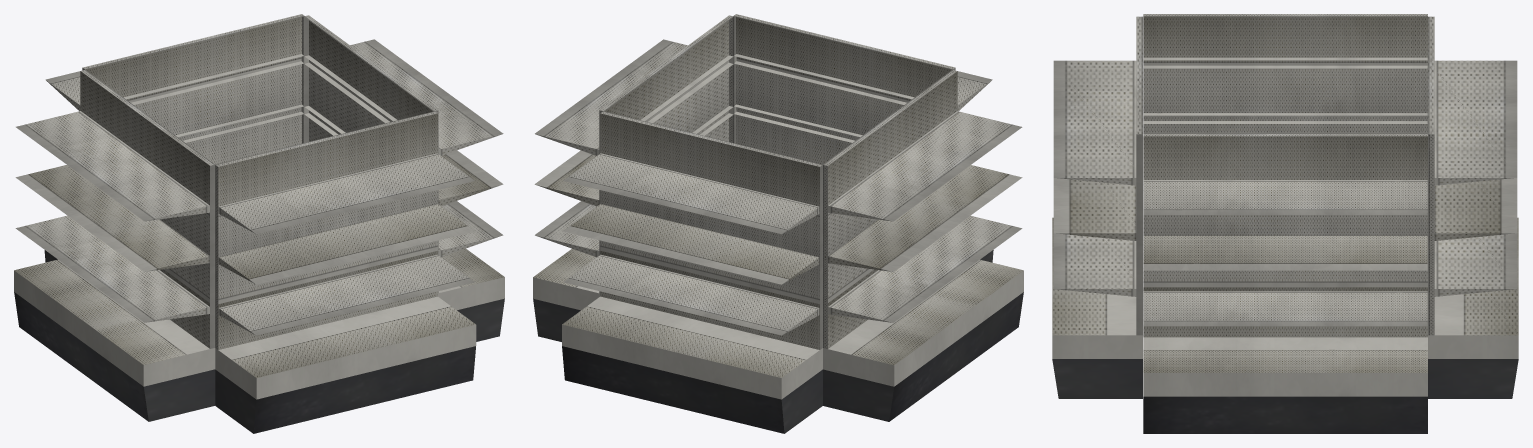
Rendered from Four_Sided_Shelf.fbx.
3 renders of one model, left to right at view 1: azimuth 30°, elevation 25°; view 2: azimuth 150°, elevation 25°; view 3: azimuth 270°, elevation 25°, orthographic. The views are drawn at different scales.
Parts seen in each view (by area): view 1: Four_Sided_Shelf_1; view 2: Four_Sided_Shelf_1; view 3: Four_Sided_Shelf_1.
Boxes of the visible parts, box(x1,y1,x2,y2) form: Four_Sided_Shelf_1: box(14, 14, 504, 433); Four_Sided_Shelf_1: box(533, 14, 1023, 433); Four_Sided_Shelf_1: box(1052, 14, 1518, 433).
Bounding box in the file's own units: 335 × 214 × 341.
